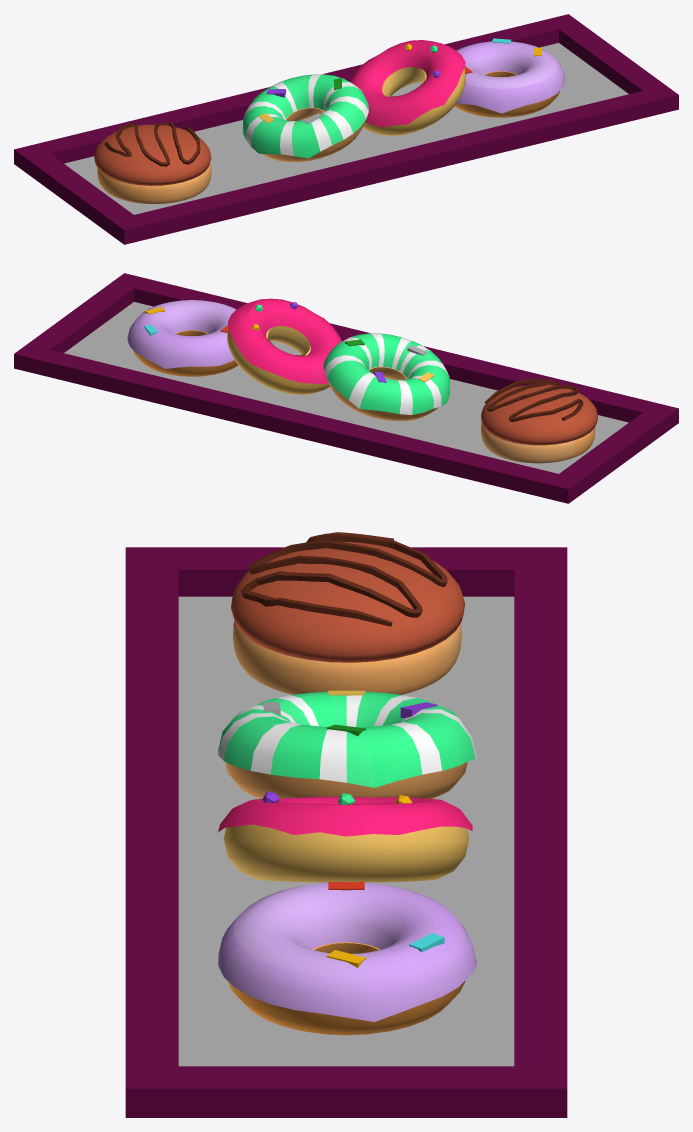
The model's file is Donut Tray.fbx.
3 renders of one model, top to bottom at view 1: azimuth 30°, elevation 25°; view 2: azimuth 150°, elevation 25°; view 3: azimuth 270°, elevation 25°, orthographic. The views are drawn at different scales.
Visible parts, largest first — view 1: Donut tray, Donut tray inner plane, Donute 2 topping, Donut 1 upper, Donut 3 green part, Donut 4 upper, Donut 3 topping white, Donut 2 base, Donut 4 lower, Donut 4 chocolate, Donut 1 base, Donut 3 base; view 2: Donut tray, Donut tray inner plane, Donute 2 topping, Donut 1 upper, Donut 3 green part, Donut 4 upper, Donut 3 topping white, Donut 2 base, Donut 4 lower, Donut 4 chocolate, Donut 1 base, Donut 3 base; view 3: Donut tray, Donut tray inner plane, Donut 1 upper, Donut 4 upper, Donut 3 green part, Donut 2 base, Donut 4 lower, Donute 2 topping, Donut 4 chocolate, Donut 3 topping white, Donut 3 base, Donut 1 base.
Part boxes in pixels (x1=…): Donut tray: x1=14, y1=14, x2=678, y2=244; Donut tray inner plane: x1=64, y1=43, x2=628, y2=214; Donute 2 topping: x1=350, y1=40, x2=465, y2=127; Donut 1 upper: x1=456, y1=41, x2=564, y2=113; Donut 3 green part: x1=242, y1=74, x2=368, y2=158; Donut 4 upper: x1=94, y1=124, x2=211, y2=185; Donut 3 topping white: x1=243, y1=74, x2=368, y2=156; Donut 2 base: x1=363, y1=67, x2=465, y2=135; Donut 4 lower: x1=97, y1=162, x2=211, y2=203; Donut 4 chocolate: x1=104, y1=122, x2=200, y2=166; Donut 1 base: x1=454, y1=71, x2=559, y2=117; Donut 3 base: x1=262, y1=107, x2=365, y2=161; Donut tray: x1=14, y1=273, x2=678, y2=503; Donut tray inner plane: x1=64, y1=302, x2=628, y2=473; Donute 2 topping: x1=228, y1=298, x2=342, y2=384; Donut 1 upper: x1=127, y1=300, x2=236, y2=368; Donut 3 green part: x1=323, y1=333, x2=449, y2=414; Donut 4 upper: x1=481, y1=384, x2=597, y2=445; Donut 3 topping white: x1=324, y1=333, x2=449, y2=414; Donut 2 base: x1=227, y1=326, x2=329, y2=394; Donut 4 lower: x1=481, y1=422, x2=595, y2=463; Donut 4 chocolate: x1=485, y1=378, x2=583, y2=421; Donut 1 base: x1=133, y1=330, x2=238, y2=376; Donut 3 base: x1=327, y1=366, x2=437, y2=420; Donut tray: x1=125, y1=547, x2=567, y2=1117; Donut tray inner plane: x1=178, y1=596, x2=514, y2=1066; Donut 1 upper: x1=218, y1=881, x2=476, y2=1021; Donut 4 upper: x1=231, y1=541, x2=464, y2=662; Donut 3 green part: x1=218, y1=691, x2=475, y2=787; Donut 2 base: x1=223, y1=824, x2=469, y2=882; Donut 4 lower: x1=233, y1=620, x2=461, y2=694; Donute 2 topping: x1=218, y1=796, x2=472, y2=836; Donut 4 chocolate: x1=240, y1=532, x2=447, y2=626; Donut 3 topping white: x1=218, y1=691, x2=476, y2=782; Donut 3 base: x1=225, y1=762, x2=467, y2=798; Donut 1 base: x1=227, y1=942, x2=465, y2=1035.
Bounding box in the file's own units: 1483 × 178 × 512.
Materials: 11 (1 with a texture image).
